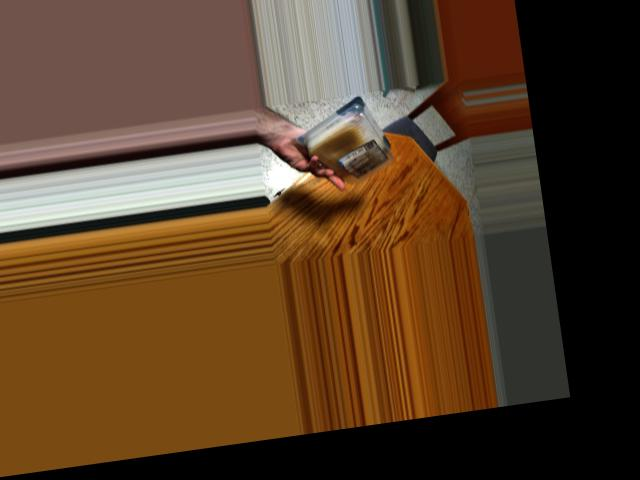cheese: (292, 99, 395, 177)
